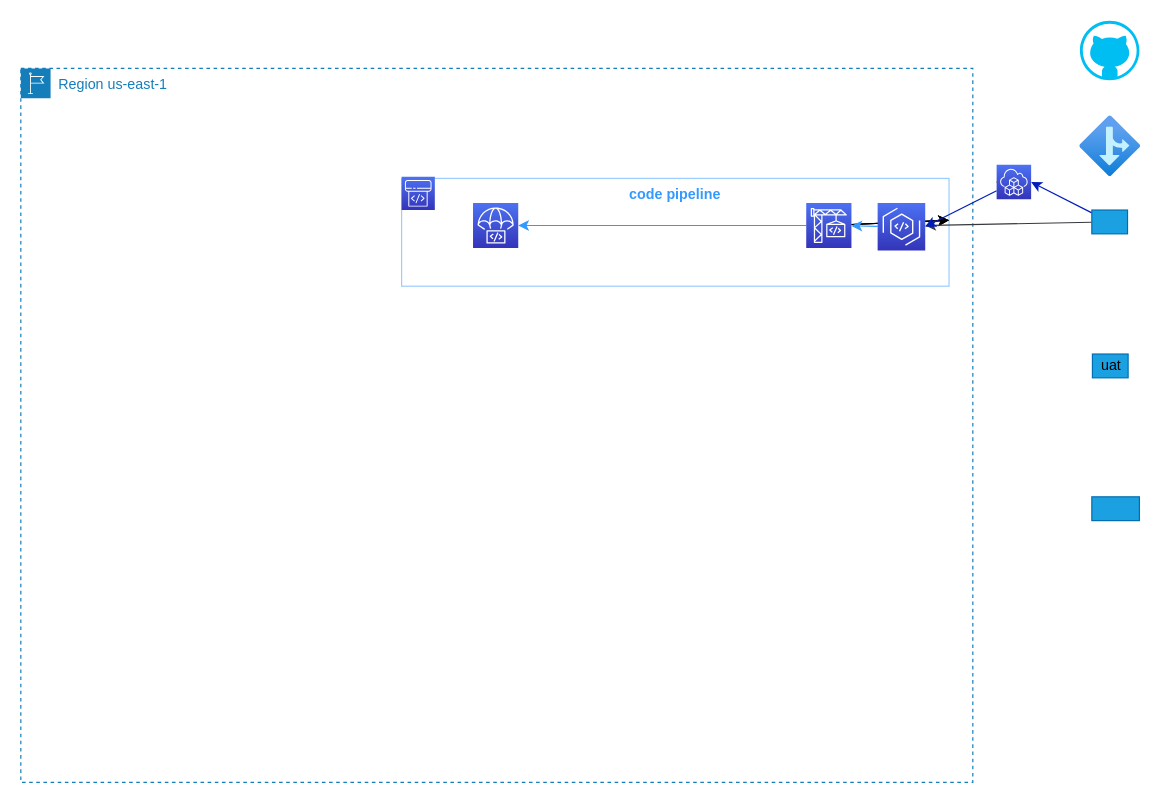
Some shapes in this 1161 by 803 pixel diagram are drawn without their labels. Here are the shapes that lost their labels. From the top down, the centre of each, then its label:
[1109,221]: /Int
[1115,508]: main
